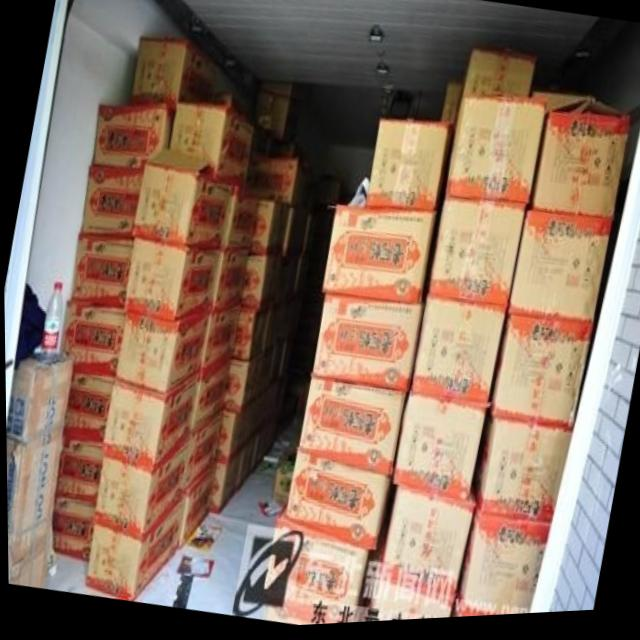box: (260, 503, 374, 628), (374, 487, 474, 614), (488, 320, 594, 438), (506, 214, 612, 330), (530, 104, 632, 223), (310, 294, 424, 399), (426, 200, 526, 318), (283, 448, 390, 556), (296, 378, 405, 484), (321, 206, 435, 307), (470, 419, 571, 530), (445, 99, 546, 210), (409, 298, 504, 415), (453, 511, 550, 622), (82, 499, 183, 603), (391, 395, 485, 504), (100, 373, 200, 475), (131, 151, 232, 251), (92, 442, 189, 544), (122, 239, 220, 324), (113, 312, 210, 397), (366, 123, 455, 215), (169, 105, 254, 186), (131, 37, 219, 111), (5, 432, 62, 541), (58, 304, 124, 398), (5, 353, 71, 446), (93, 103, 174, 171), (69, 235, 131, 312), (80, 166, 143, 241), (461, 53, 537, 103), (51, 447, 99, 523), (59, 390, 110, 461), (189, 358, 230, 442), (6, 516, 52, 590), (178, 463, 215, 551), (183, 415, 221, 499), (237, 416, 277, 494), (246, 158, 305, 209), (254, 83, 303, 143), (243, 378, 285, 448), (200, 305, 241, 373), (250, 342, 293, 406), (220, 184, 259, 254), (210, 251, 248, 312), (262, 297, 301, 355), (51, 511, 92, 563), (214, 408, 248, 467), (242, 255, 275, 315), (230, 309, 266, 363), (209, 456, 241, 516), (224, 358, 256, 416), (270, 444, 298, 509), (293, 217, 315, 299), (249, 204, 283, 257), (313, 180, 340, 237), (269, 255, 297, 307), (280, 206, 305, 259), (533, 98, 594, 117), (214, 93, 249, 122), (442, 87, 465, 129)
